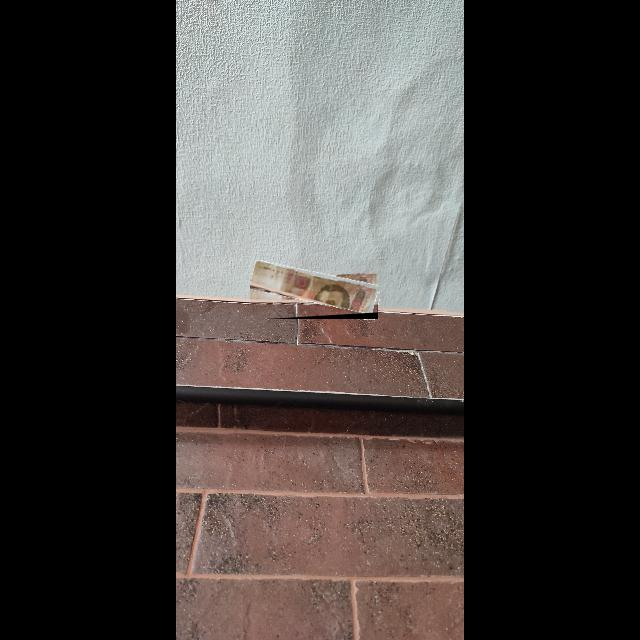100uah: (250, 260, 379, 315)
